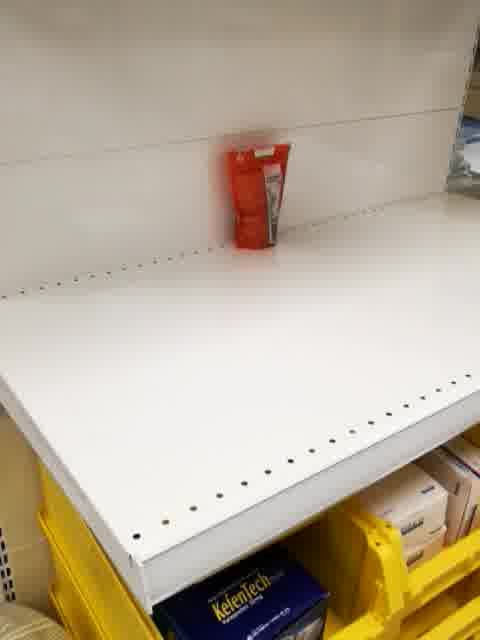whitechia: (221, 140, 291, 254)
